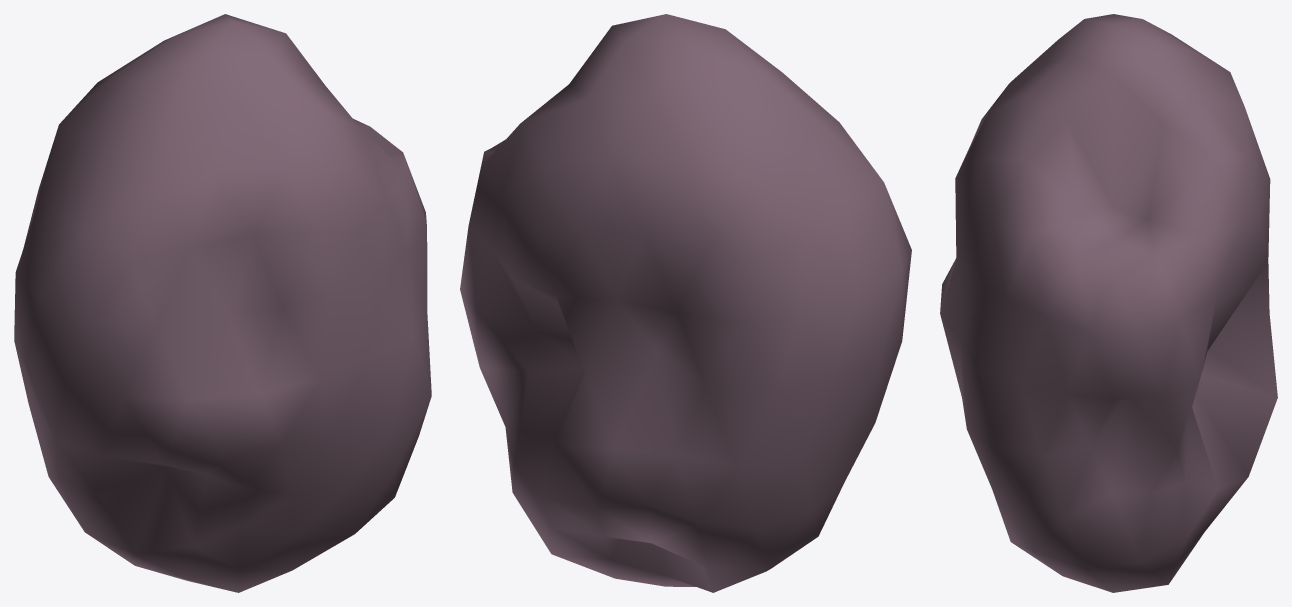
The model's file is asteroid_sml_27.glb.
3 renders of one model, left to right at view 1: azimuth 30°, elevation 25°; view 2: azimuth 150°, elevation 25°; view 3: azimuth 270°, elevation 25°, orthographic. The views are drawn at different scales.
Parts seen in each view (by area): view 1: asteroid_sml_27; view 2: asteroid_sml_27; view 3: asteroid_sml_27.
Boxes of the visible parts, <box> form: asteroid_sml_27: <box>14,14,431,592</box>; asteroid_sml_27: <box>460,14,911,592</box>; asteroid_sml_27: <box>940,14,1277,592</box>.
Size of the model in its own units: 1.56 by 2.12 by 1.18.
